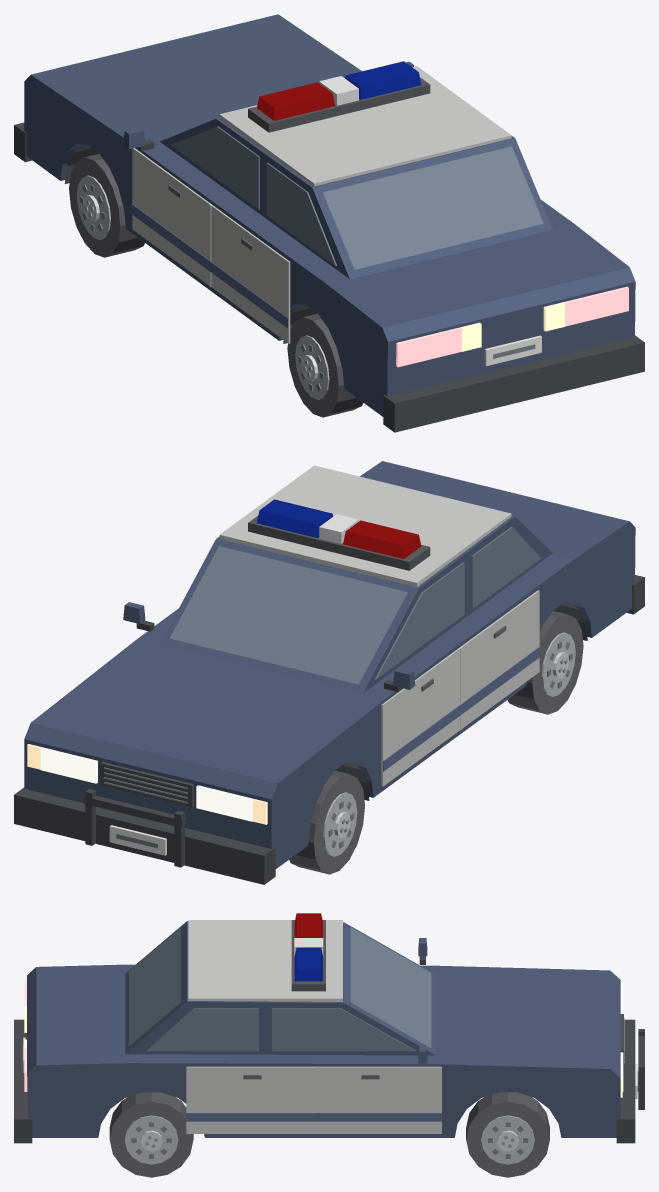
The model's file is posbon.glb.
3 views of the same model, one above another, from view 1: azimuth 30°, elevation 25°; view 2: azimuth 150°, elevation 25°; view 3: azimuth 270°, elevation 25° (orthographic). The views are drawn at different scales.
Visible parts, largest first — view 1: Body, Rim, Rim3, Base, LightRed, LightBlue; view 2: Body, Rim, Rim3, Base, LightRed, LightBlue; view 3: Body, Rim2, Rim4, Base, LightBlue, LightRed.
Part boxes in pixels (box(x1,y1,x2,y2)): Body: box(14, 14, 644, 432); Rim: box(69, 154, 144, 257); Rim3: box(287, 313, 363, 417); Base: box(248, 76, 430, 132); LightRed: box(257, 82, 334, 120); LightBlue: box(345, 61, 421, 99); Body: box(14, 461, 644, 884); Rim: box(289, 770, 364, 874); Rim3: box(507, 610, 583, 714); Base: box(248, 514, 430, 570); LightRed: box(343, 520, 421, 558); LightBlue: box(257, 499, 333, 537); Body: box(14, 920, 644, 1143); Rim2: box(466, 1092, 549, 1177); Rim4: box(109, 1092, 193, 1177); Base: box(291, 920, 325, 991); LightBlue: box(294, 947, 322, 981); LightRed: box(294, 913, 322, 937).
Size of the model in its own units: 2.06 by 1.57 by 4.82.
